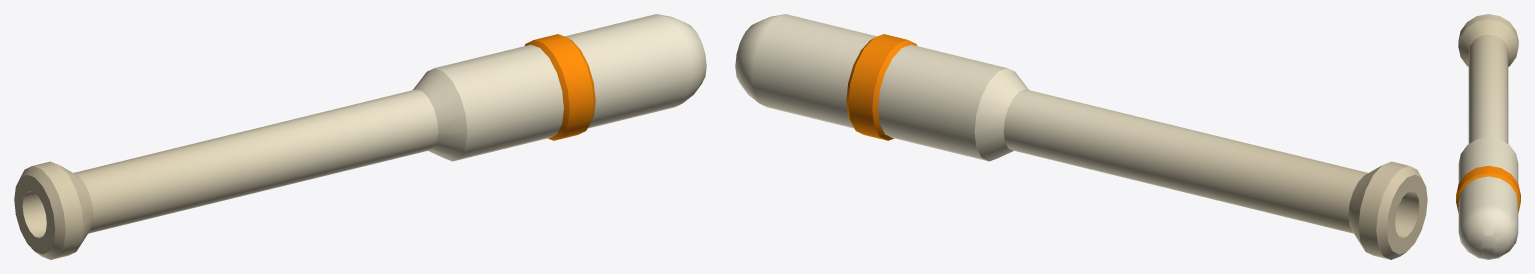
Rendered from Launchershell_GL4.fbx.
The picture shows the model from 3 angles, left to right: view 1: azimuth 30°, elevation 25°; view 2: azimuth 150°, elevation 25°; view 3: azimuth 270°, elevation 25°; orthographic projection. The views are drawn at different scales.
Visible parts, largest first — view 1: Launchershell_GL4; view 2: Launchershell_GL4; view 3: Launchershell_GL4.
Part boxes in pixels (left/top/right/bottom): Launchershell_GL4: left=14, top=14, right=706, bottom=259; Launchershell_GL4: left=735, top=14, right=1427, bottom=259; Launchershell_GL4: left=1456, top=14, right=1520, bottom=259.
Bounding box in the file's own units: 59.46 × 8.02 × 8.02.
